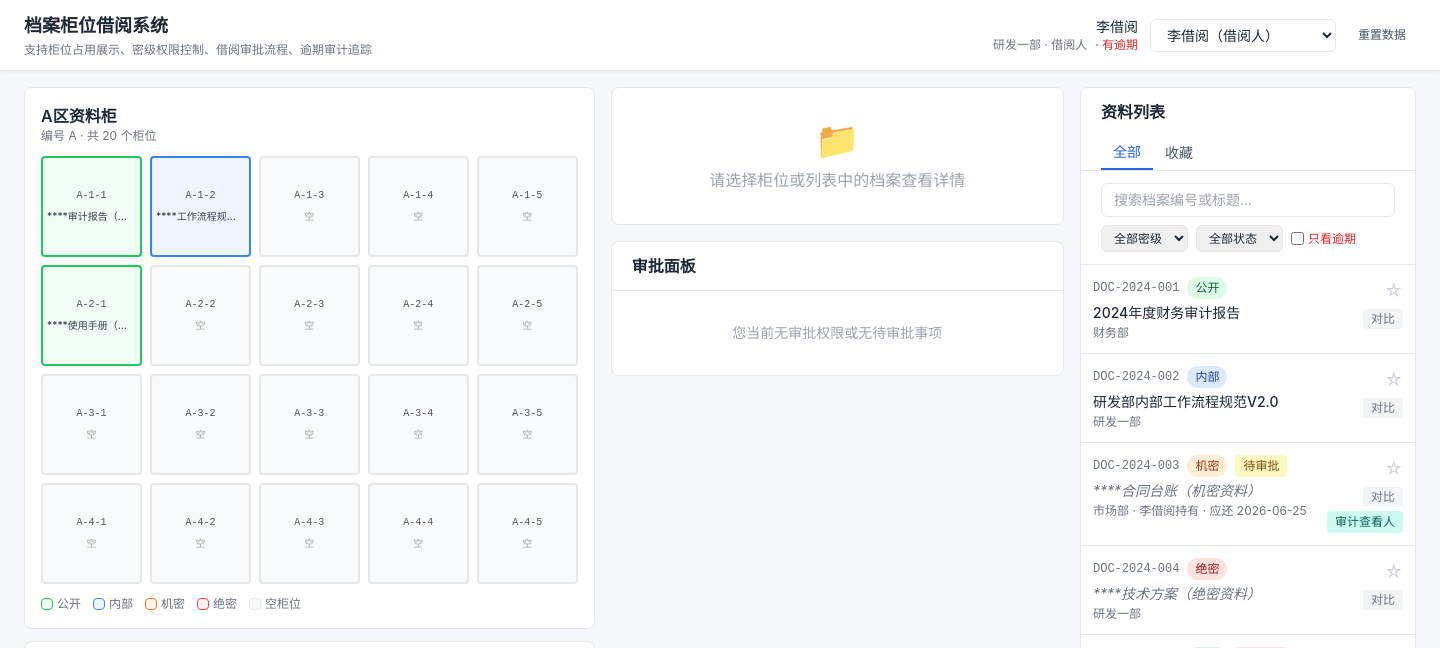
it: smoke-905: 收藏对比与流程查询复查 › 收藏功能测试 › 列表页可以收藏和取消收藏档案
The image size is (1440, 648).
Select "张档案（档案员）" in the dropdown with test id "role-select" at (1243, 35), box x1=1150 y1=18 x2=1336 y2=52
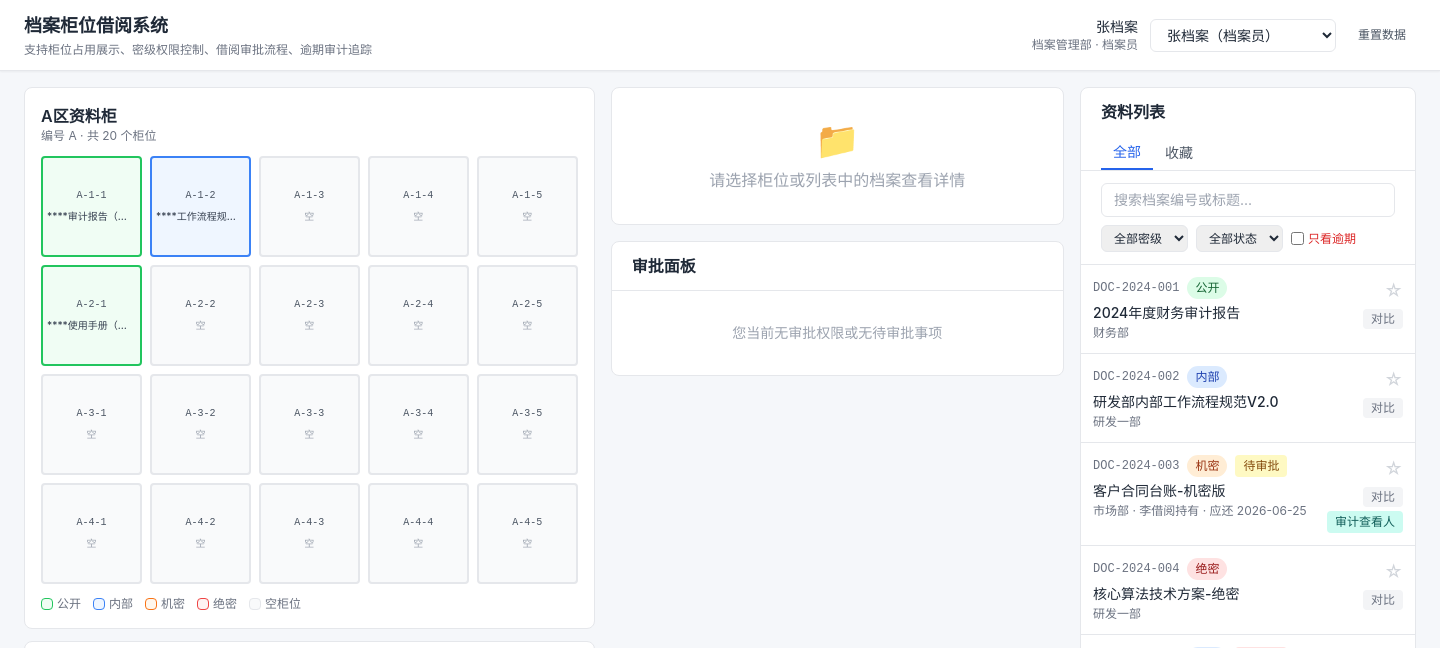
Expected: the element with test id "archive-row-arc-1" is shown, x1=1081 y1=265 x2=1415 y2=353
Click the button with test id "btn-favorite-arc-1" at (1394, 291), box x1=1384 y1=277 x2=1403 y2=305
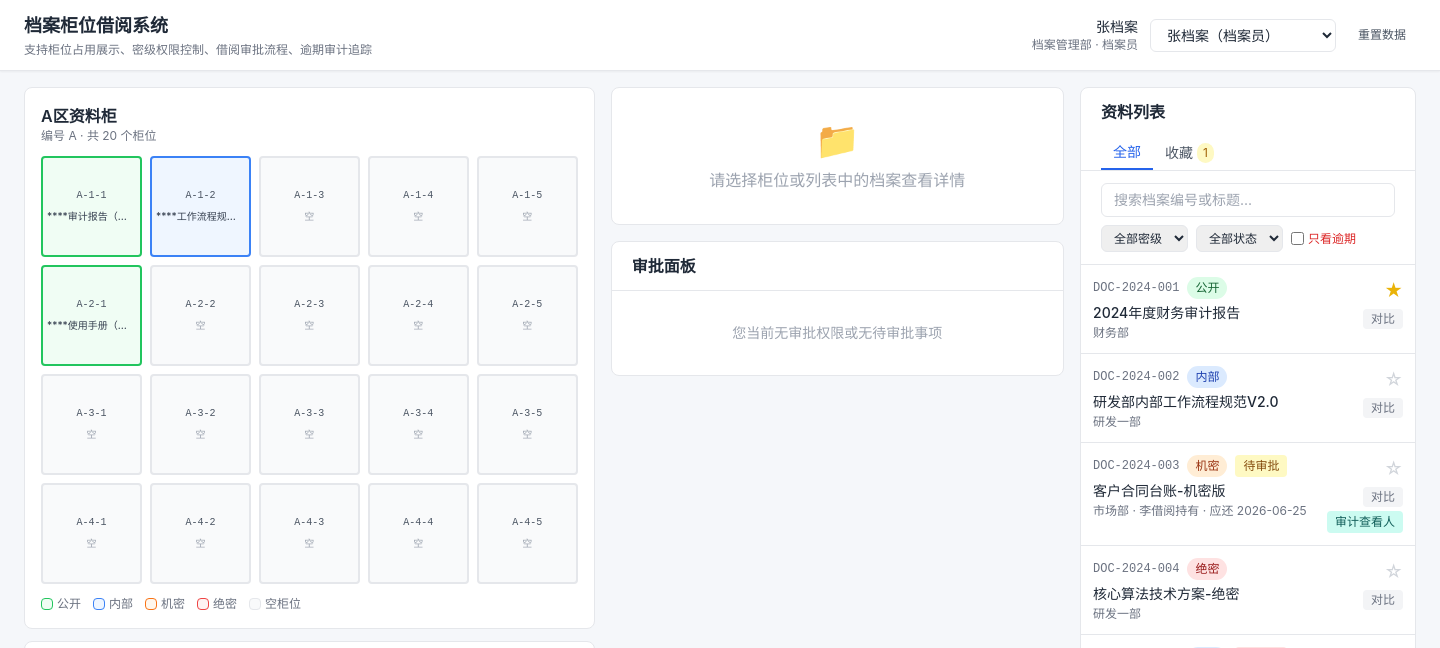
Result: the button with test id "btn-favorite-arc-1" reads "★"
Click the button with test id "btn-favorite-arc-1" at (1394, 291), box x1=1384 y1=277 x2=1403 y2=305
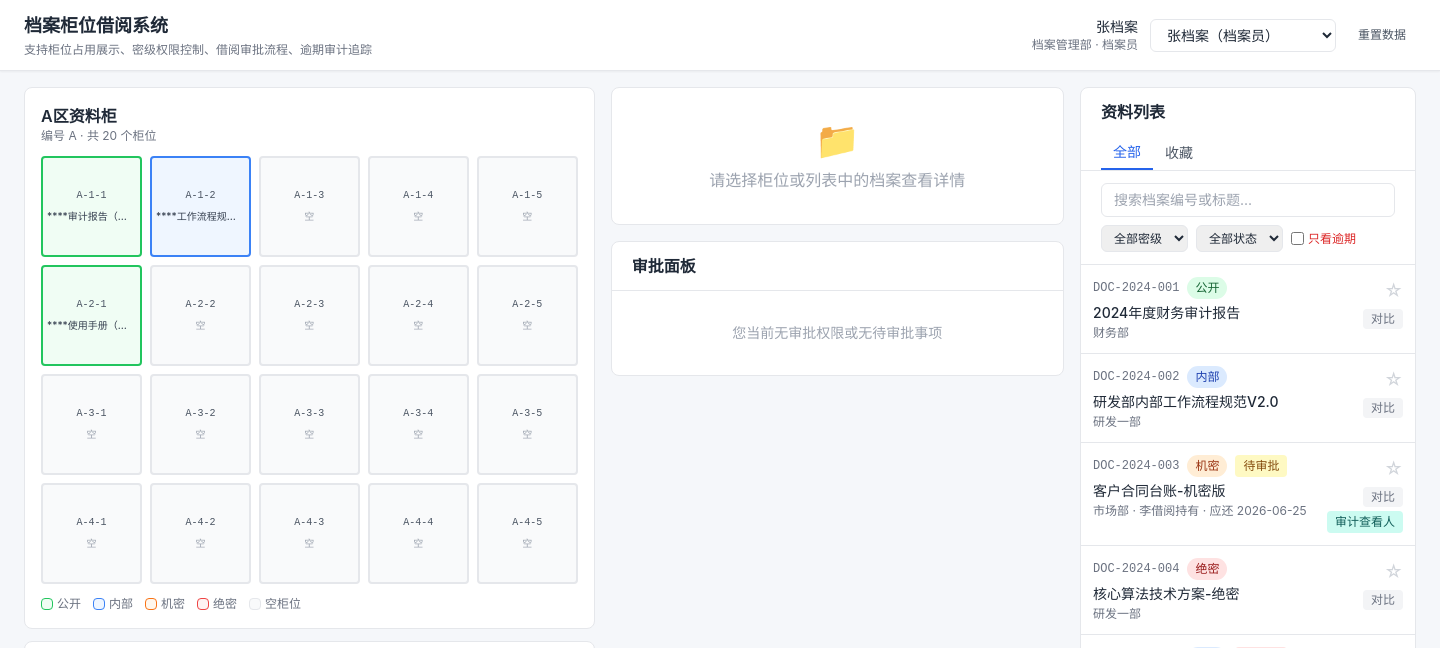
Result: the button with test id "btn-favorite-arc-1" reads "☆" at x1=1384 y1=277 x2=1403 y2=305
